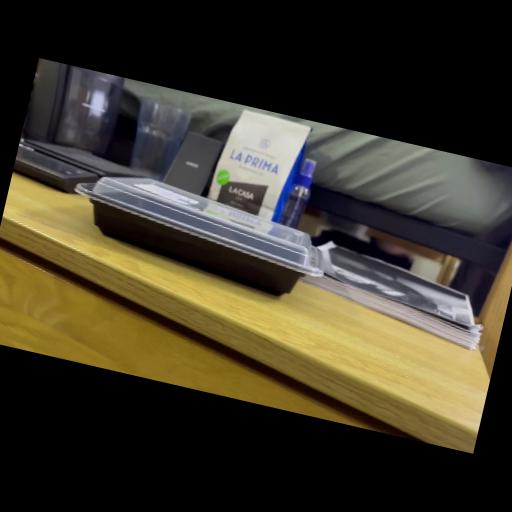rigid_plastic_container: (56, 146, 344, 320)
